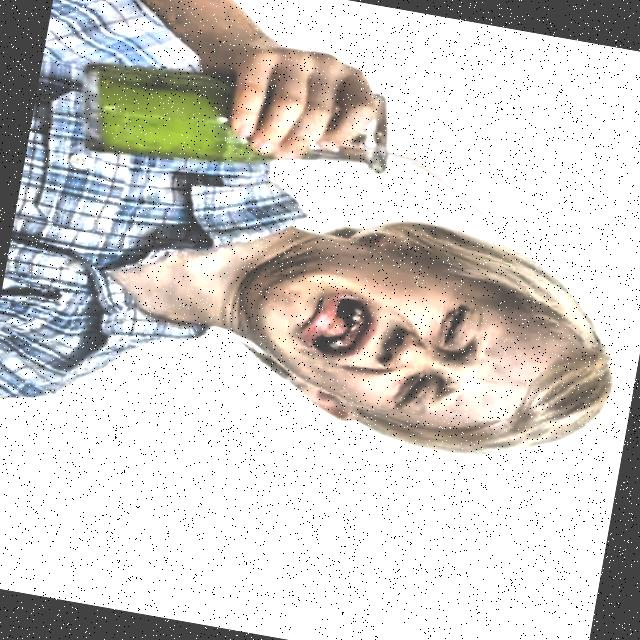disgust: (182, 171, 640, 490)
